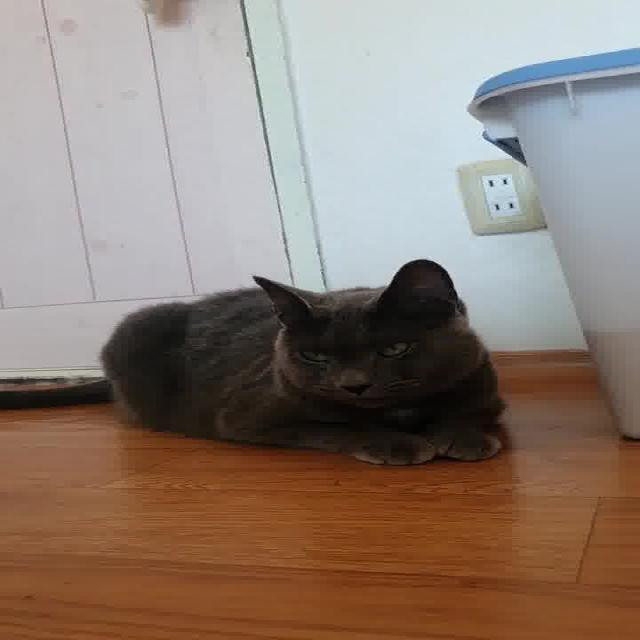cat: (7, 255, 526, 473)
